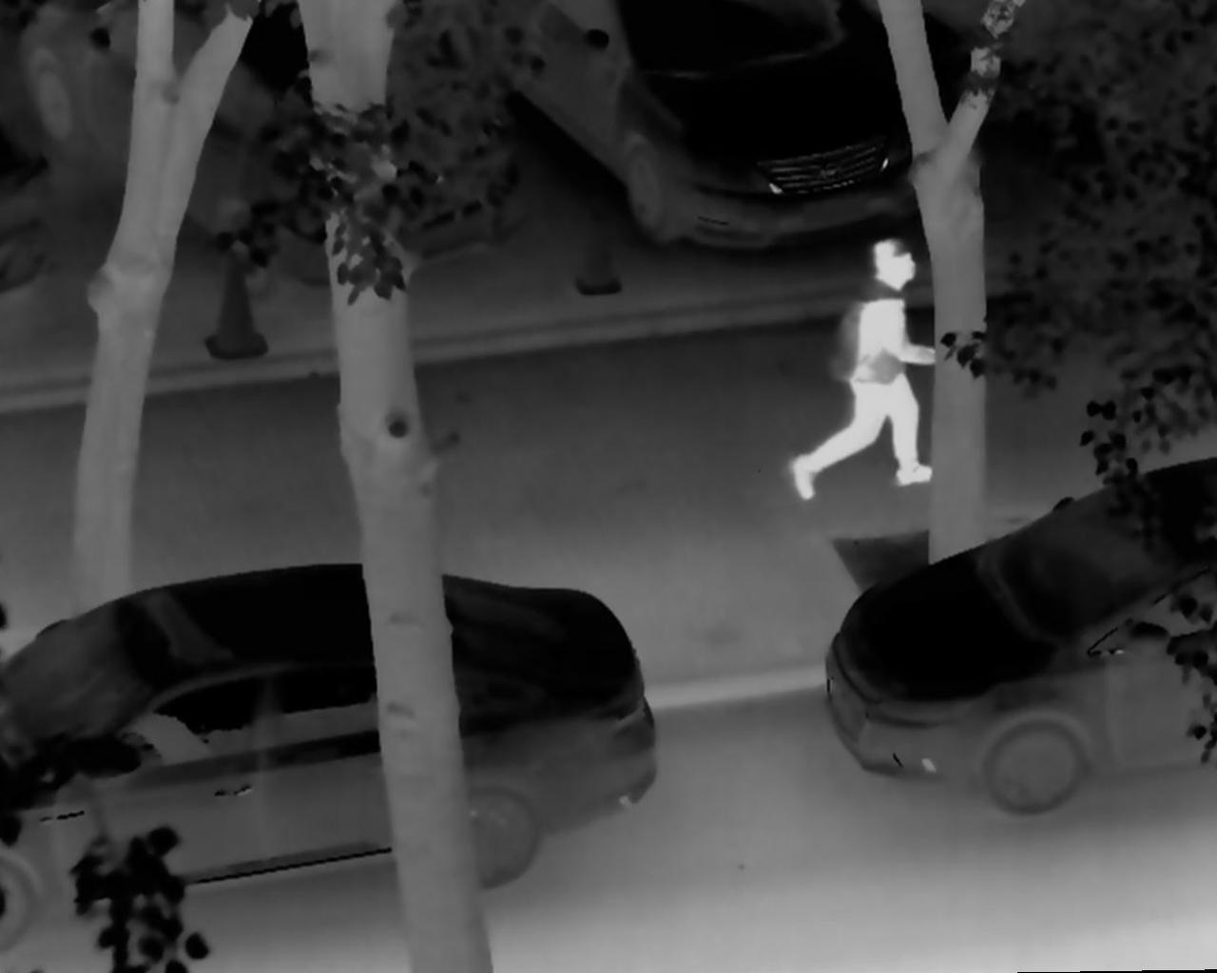person: (788, 235, 939, 505)
